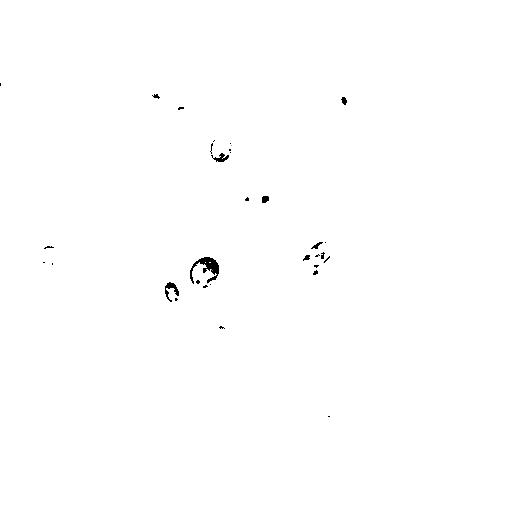micro-algae: (77, 14, 132, 69), (187, 254, 221, 289), (251, 179, 280, 216), (328, 83, 356, 118), (294, 256, 327, 285), (305, 237, 336, 265), (207, 133, 232, 165), (117, 269, 143, 299), (161, 277, 184, 309), (37, 243, 65, 266), (237, 193, 255, 206), (176, 103, 189, 116)
